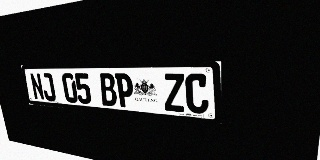0: (61, 73, 78, 103)
5: (74, 73, 92, 104)
B: (98, 73, 118, 107)
C: (185, 73, 209, 114)
J: (40, 73, 56, 101)
N: (29, 73, 45, 100)
P: (115, 73, 135, 108)
Z: (163, 73, 185, 112)
